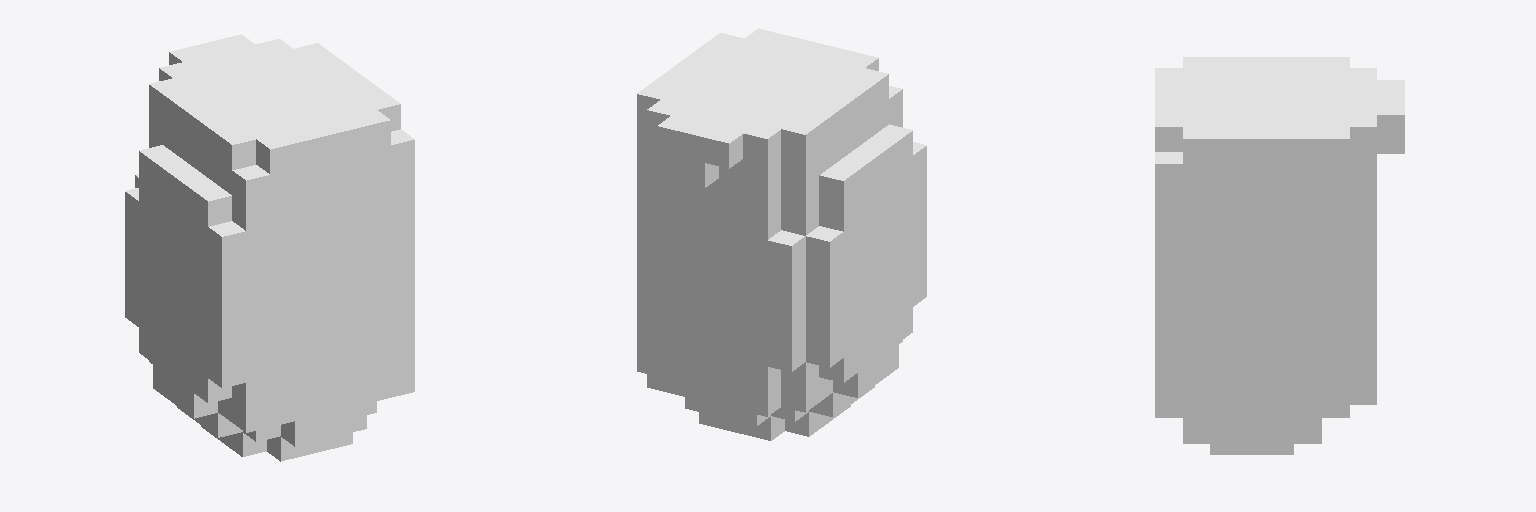
The model's file is Hero-7.obj.
3 views of the same model, side by side, from view 1: azimuth 30°, elevation 25°; view 2: azimuth 150°, elevation 25°; view 3: azimuth 270°, elevation 25° (orthographic).
Visible parts, largest first — view 1: object 1; view 2: object 1; view 3: object 1.
Boxes of the visible parts, x1,y1,x2,y2 form: object 1: [125, 34, 414, 461]; object 1: [637, 28, 926, 440]; object 1: [1155, 57, 1404, 454].
Size of the model in its own units: 0.8 by 1.3 by 0.9.